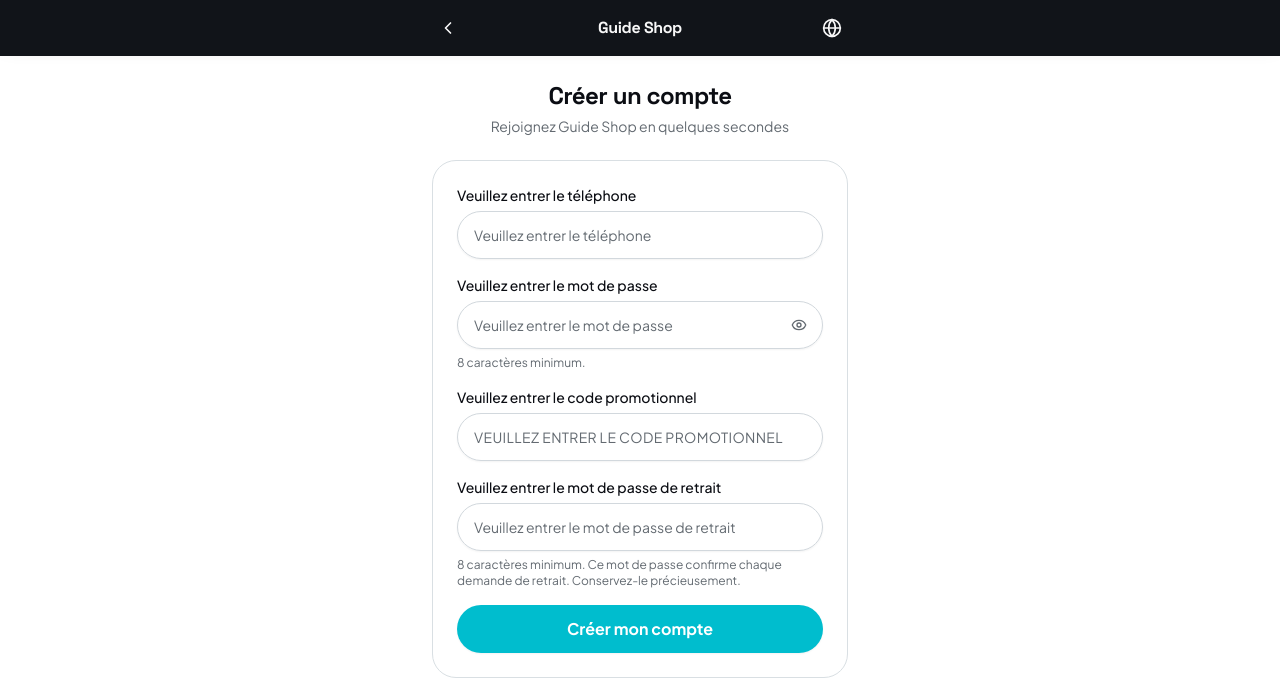
Scenario: RegisterPage › requires phone, password, promo code and secondary password
This screenshot has width=1280, height=694.
Click the button with test id "register.submit_button". click: (640, 629)
box: [457,605,823,653]
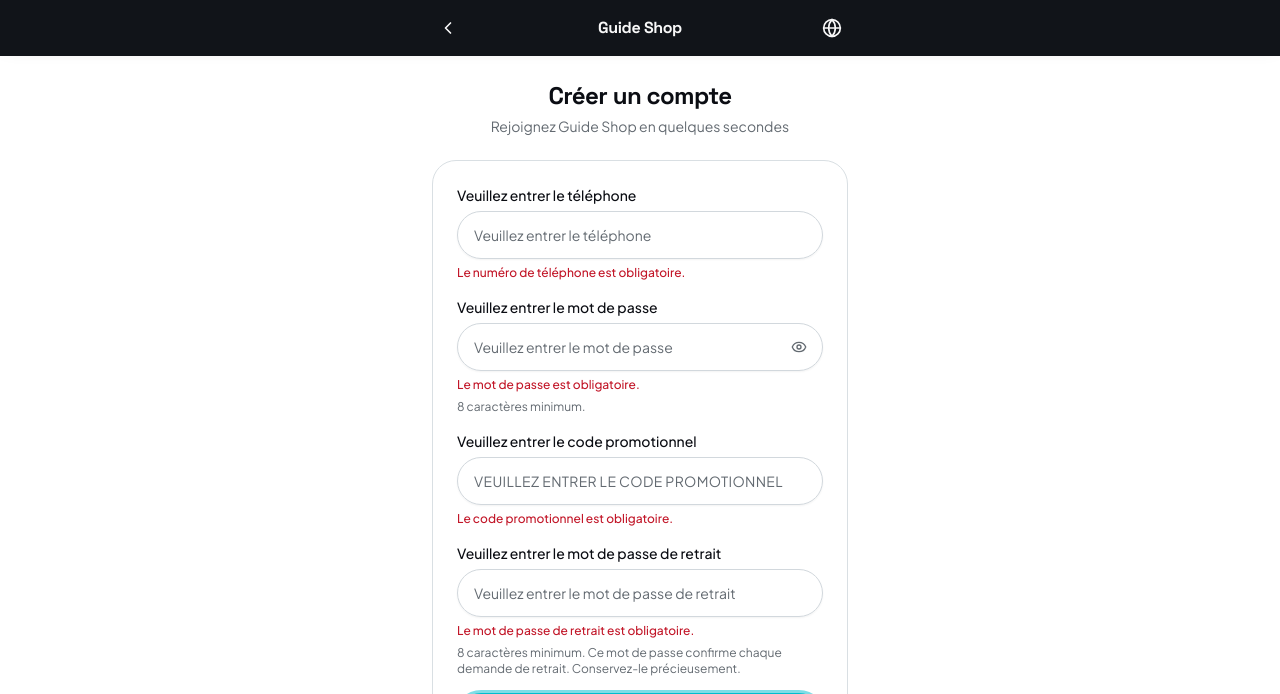
expect the text "Le code promotionnel est obligatoire." is shown: met, box [457,511,673,526]
expect the text "Le mot de passe de retrait est obligatoire." is shown: met, box [457,623,694,638]
